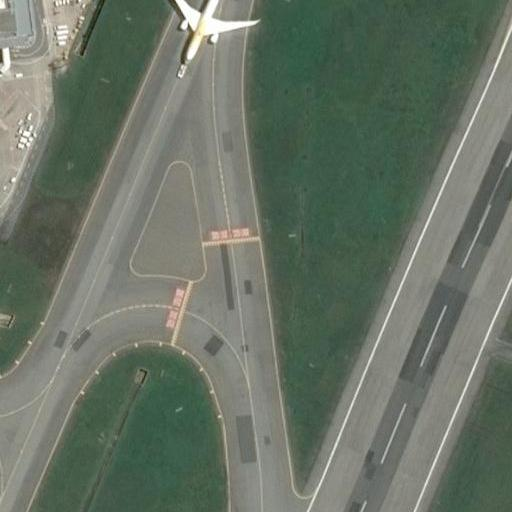Aircraft: (163, 0, 261, 73)
